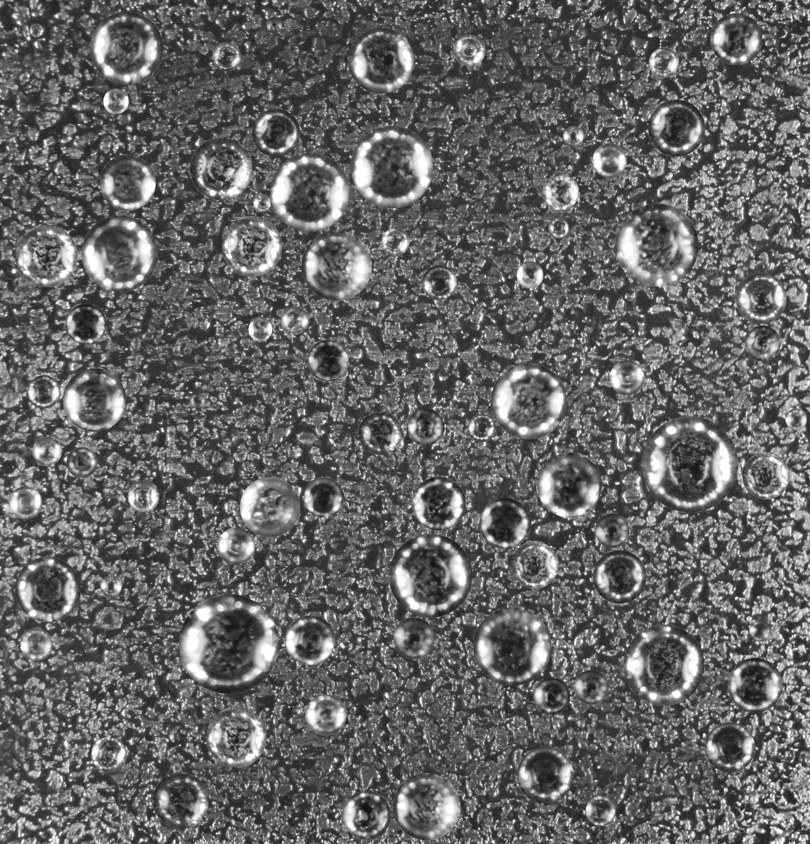Bubble: (179, 594, 278, 693), (642, 416, 738, 512), (388, 534, 472, 617), (615, 203, 698, 286), (350, 125, 433, 208), (623, 625, 704, 705), (270, 152, 349, 231), (473, 607, 551, 685), (81, 215, 157, 291), (491, 363, 566, 439), (90, 11, 163, 84), (301, 230, 371, 300), (393, 773, 460, 840), (348, 27, 413, 93), (15, 556, 80, 622), (537, 452, 601, 517), (62, 368, 126, 431), (190, 137, 252, 200), (15, 225, 77, 287), (221, 216, 282, 276), (240, 477, 300, 537), (206, 707, 266, 767), (648, 99, 705, 156), (99, 154, 155, 210), (517, 747, 573, 803), (152, 772, 208, 828), (728, 658, 782, 712), (412, 476, 465, 530), (593, 550, 646, 603), (710, 13, 762, 64), (479, 497, 530, 548), (736, 273, 786, 323), (705, 722, 755, 772), (285, 615, 334, 664), (252, 108, 300, 156), (342, 791, 390, 839), (742, 452, 789, 499), (511, 541, 558, 588), (358, 411, 401, 454), (393, 617, 434, 659), (65, 303, 106, 344), (305, 694, 346, 735), (307, 340, 348, 381), (303, 477, 343, 517), (406, 408, 444, 445), (217, 527, 254, 564), (533, 677, 570, 714), (542, 174, 578, 210), (745, 325, 780, 361), (91, 737, 126, 772), (609, 360, 644, 395), (574, 670, 608, 704), (592, 143, 626, 177), (422, 265, 456, 299), (595, 513, 629, 547), (27, 375, 60, 408), (9, 486, 41, 519), (20, 628, 52, 660), (453, 34, 485, 66), (127, 480, 159, 512), (585, 795, 616, 826), (66, 447, 97, 477), (649, 47, 679, 77), (32, 436, 61, 465), (212, 42, 240, 70), (381, 227, 409, 255), (280, 306, 308, 334), (468, 414, 495, 441), (516, 261, 543, 288), (103, 88, 128, 113), (248, 317, 272, 341), (785, 408, 807, 430), (100, 575, 121, 597), (749, 620, 771, 641), (548, 218, 568, 238), (563, 126, 583, 146), (253, 194, 270, 212), (265, 16, 282, 33), (190, 393, 204, 408), (29, 23, 43, 36)
